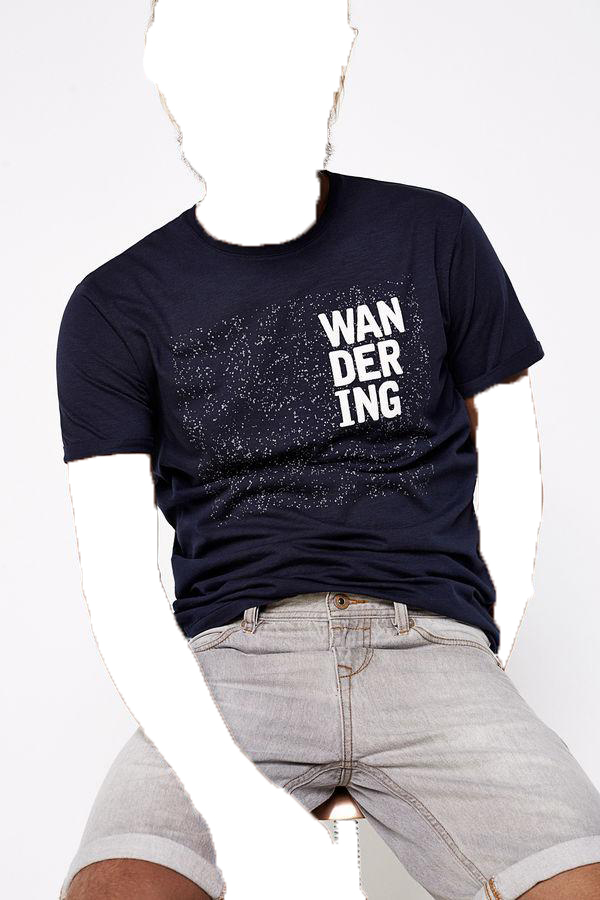teeshirt: (42, 175, 549, 644)
